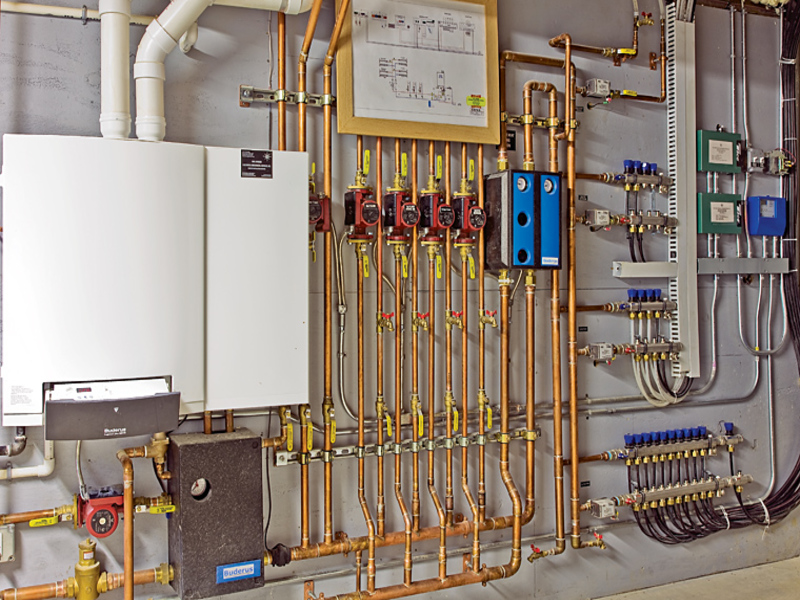valve: (290, 394, 316, 470), (126, 496, 192, 525), (319, 390, 343, 463), (470, 382, 501, 435), (381, 234, 413, 285), (367, 388, 397, 440), (402, 394, 431, 447), (421, 231, 448, 283), (454, 238, 481, 288), (423, 152, 452, 197), (389, 150, 413, 199), (440, 387, 465, 434), (352, 145, 379, 188), (16, 513, 85, 529), (349, 234, 370, 278), (459, 151, 476, 202), (603, 85, 643, 106), (600, 47, 640, 58), (309, 159, 321, 191)
